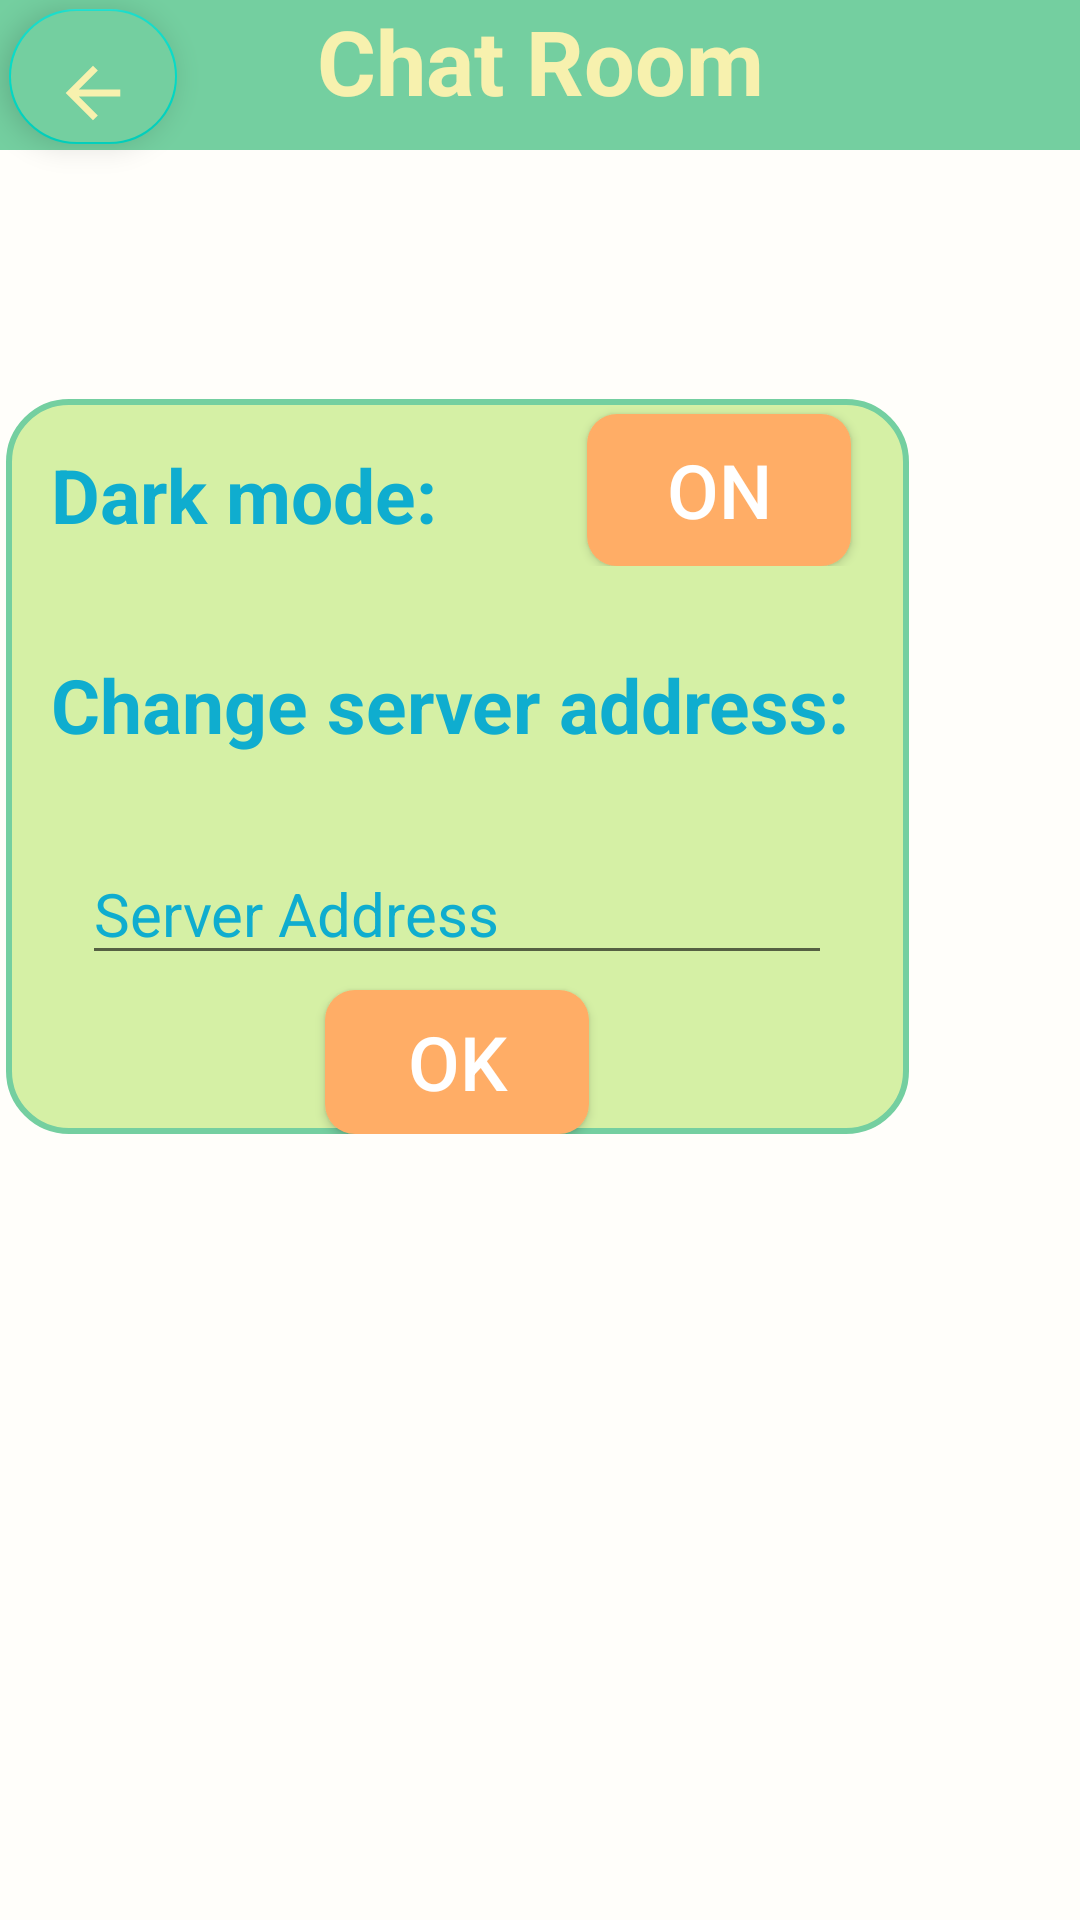

Where to tap for icons on this 1080 × 1920 app screen, as [x,y]:
Back Button: [93,76]
